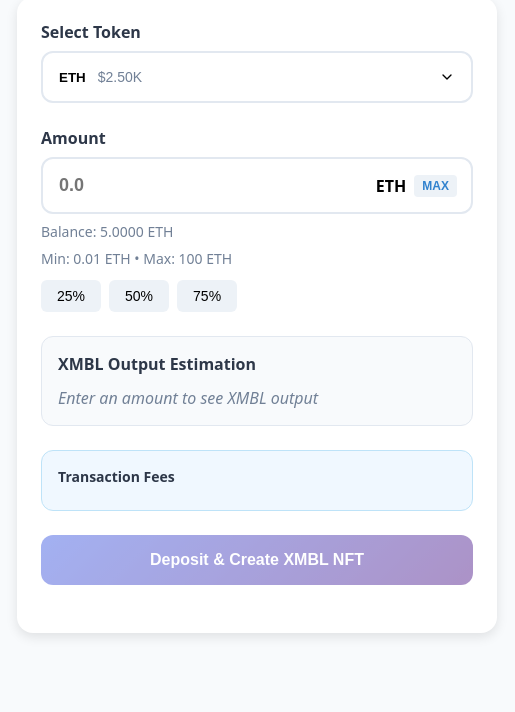
DepositForm › should show validation error for amount above maximum
The image size is (515, 712).
Type "101" into the field with test id "amount-input" at (257, 186), box x1=41 y1=157 x2=473 y2=214
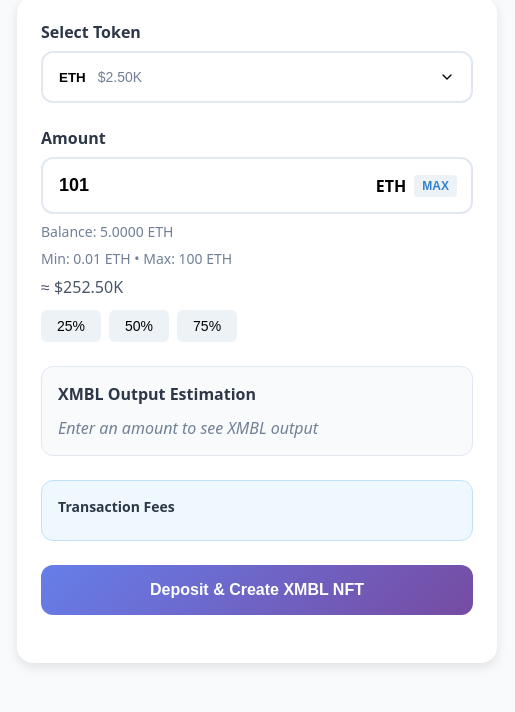
Leave the field with test id "amount-input", box x1=41 y1=157 x2=473 y2=214
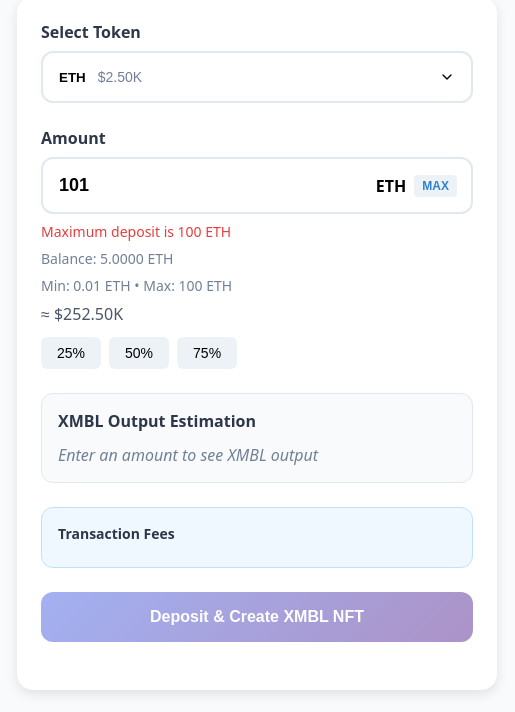
Check: the message with test id "validation-error" reads "Maximum deposit is 100 ETH", box x1=41 y1=222 x2=231 y2=241
